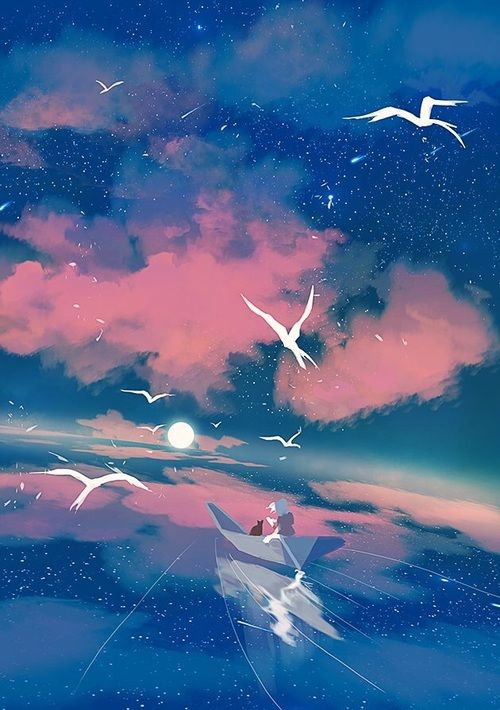bird: (235, 277, 334, 391), (341, 87, 472, 163), (32, 455, 153, 525), (253, 427, 316, 453)
boat: (203, 517, 340, 575)
human: (259, 494, 303, 547)
moon: (162, 417, 195, 456)
